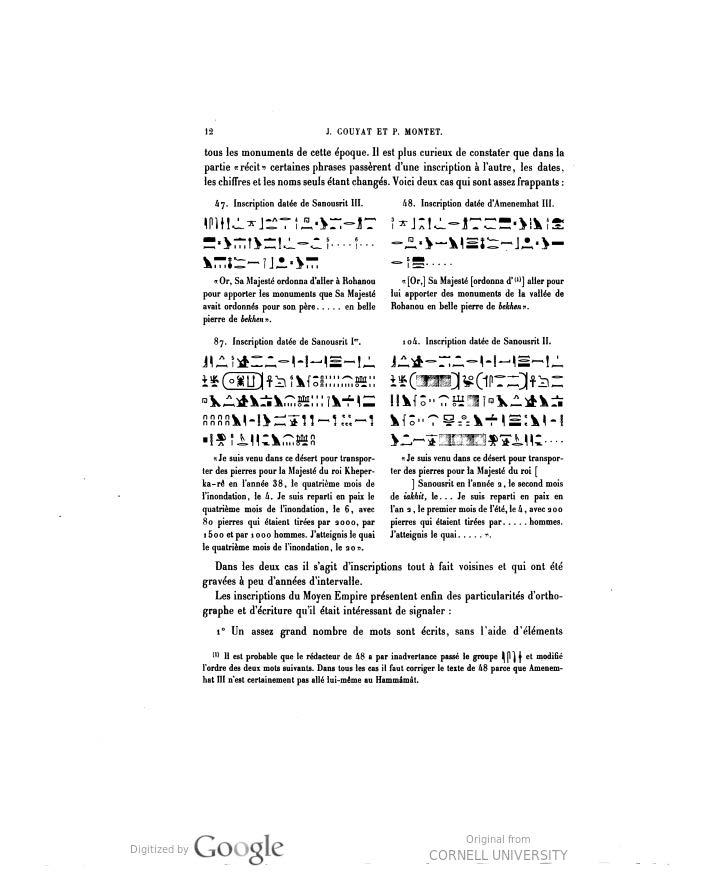circle: (219, 365, 271, 392)
